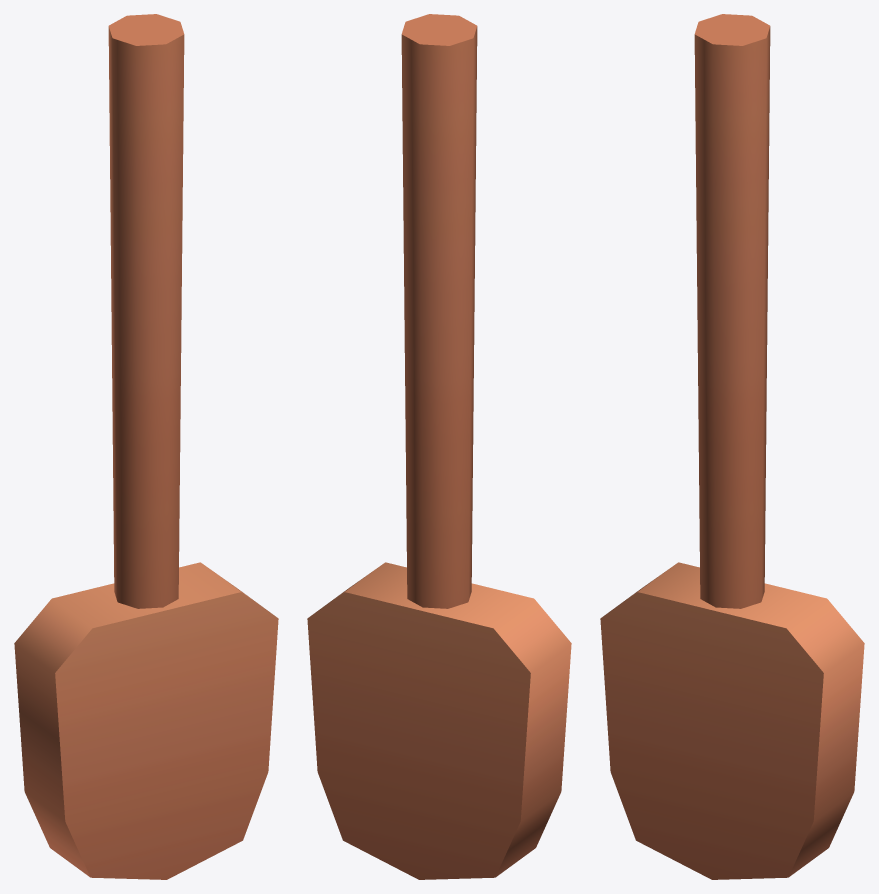
The model's file is tool-paddle.glb.
The picture shows the model from 3 angles, left to right: view 1: azimuth 30°, elevation 25°; view 2: azimuth 150°, elevation 25°; view 3: azimuth 330°, elevation 25°; orthographic projection.
Parts seen in each view (by area): view 1: tool-paddle; view 2: tool-paddle; view 3: tool-paddle.
Boxes of the visible parts, bbox=[...] form: tool-paddle: bbox=[14, 14, 278, 879]; tool-paddle: bbox=[307, 14, 571, 879]; tool-paddle: bbox=[600, 14, 864, 879].
Size of the model in its own units: 0.6579 by 2.35 by 0.2076.
Materials: 1 (1 with a texture image).
